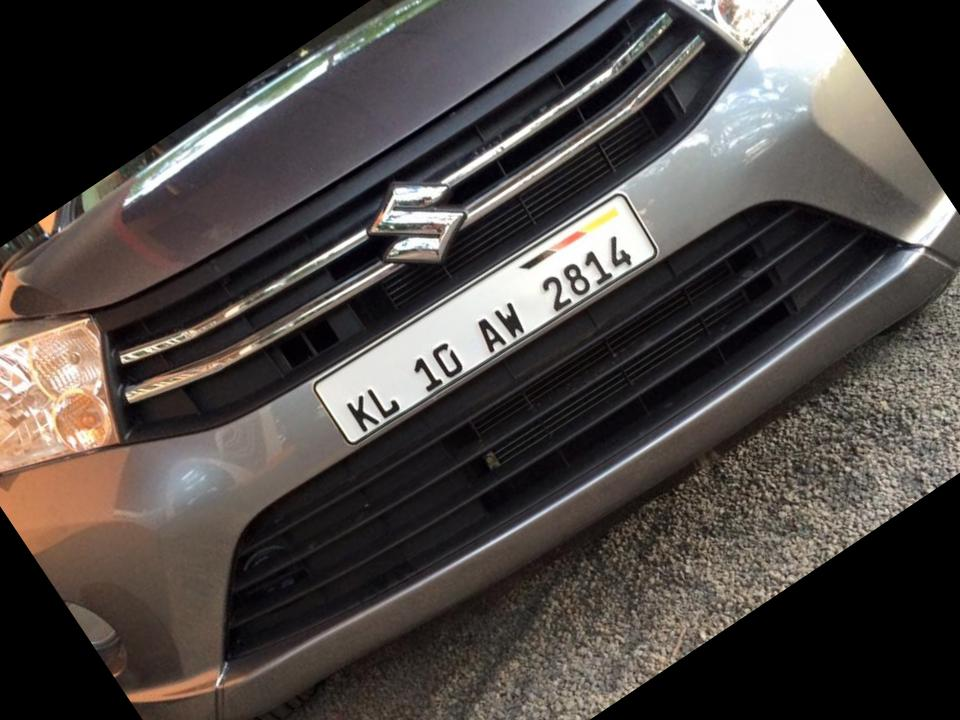plate: (297, 161, 689, 472)
